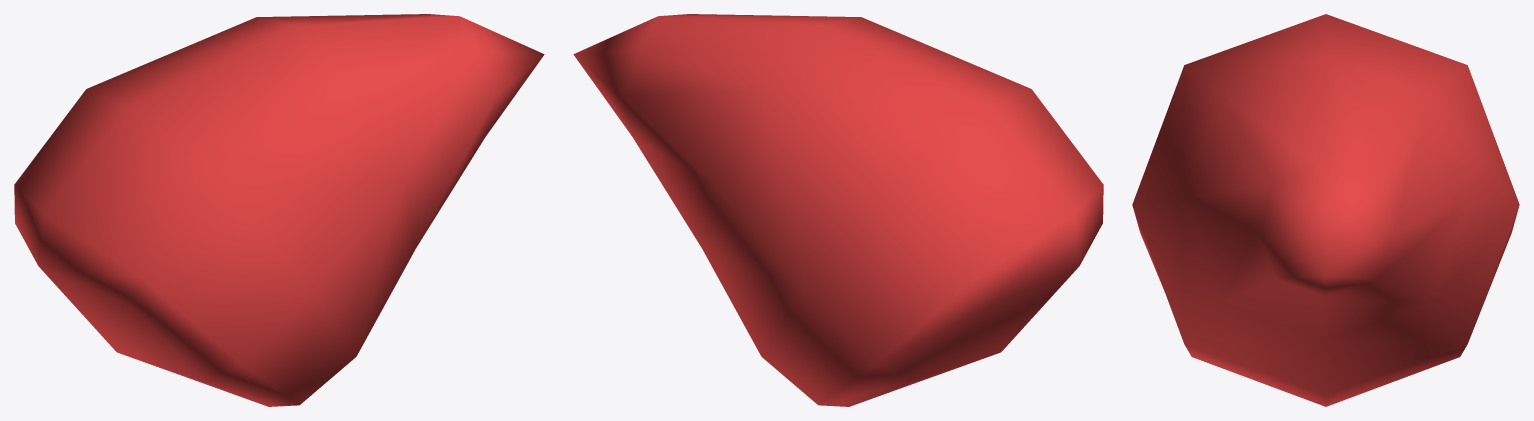
Rendered from Droplet.fbx.
3 renders of one model, left to right at view 1: azimuth 30°, elevation 25°; view 2: azimuth 150°, elevation 25°; view 3: azimuth 270°, elevation 25°, orthographic. The views are drawn at different scales.
Parts seen in each view (by area): view 1: Droplet; view 2: Droplet; view 3: Droplet.
Boxes of the visible parts, x1,y1,x2,y2 form: Droplet: [14, 14, 544, 406]; Droplet: [573, 14, 1103, 406]; Droplet: [1132, 14, 1519, 406].
Bounding box in the file's own units: 426 × 283 × 270.
1 material, 1 textured.
